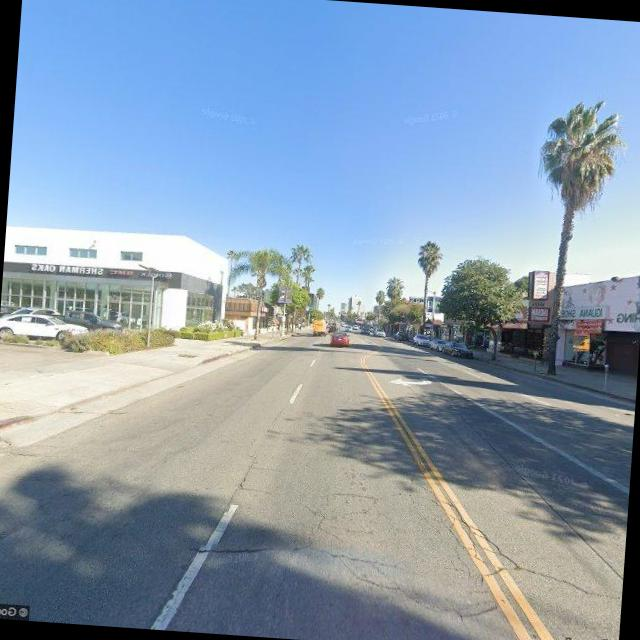crack: (288, 465, 521, 606)
